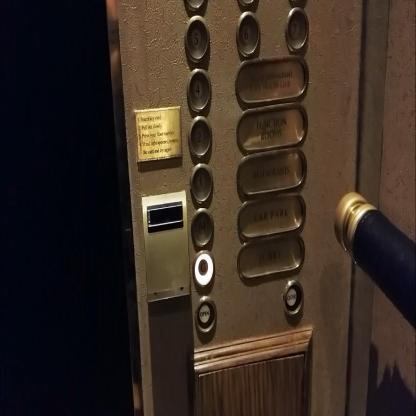1: (190, 163, 214, 204)
2: (188, 114, 211, 157)
4: (187, 68, 211, 111)
5: (184, 14, 209, 62)
6: (236, 10, 260, 57)
7: (285, 6, 309, 52)
G: (192, 250, 214, 290)
M: (190, 206, 214, 247)
text: (282, 278, 306, 316)
text_open door: (195, 296, 217, 333)
